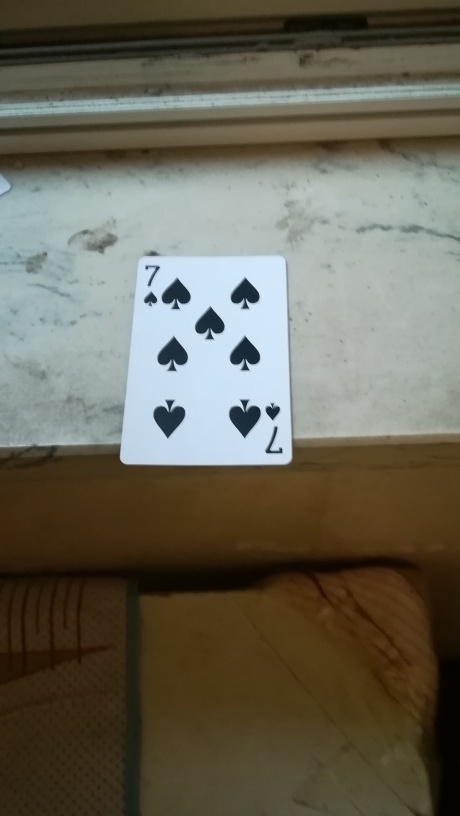ht 7: (118, 251, 294, 468)
